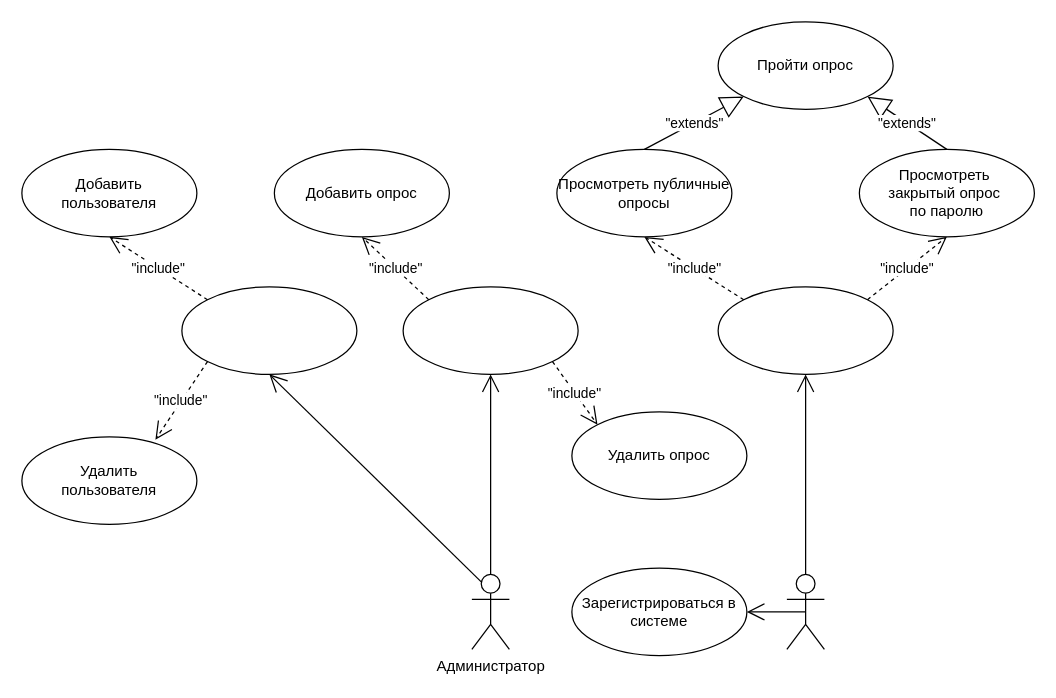
This 1056x698 diagram has some shape labels left out. The box of each missing label's shape, as (x1, y1, x2, y2) in pixels:
Пользователь: (786, 573, 824, 649)
Просмотреть доступные опросы: (717, 286, 893, 374)
Редактировать опросы: (402, 286, 578, 374)
Редактировать пользователей: (181, 286, 357, 374)
